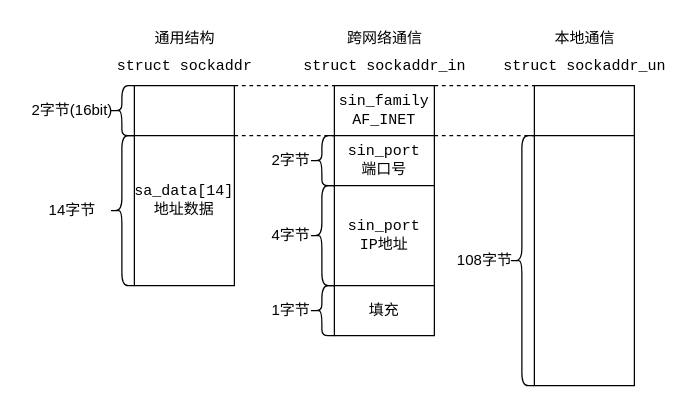
The diagram is 699 pixels wide and 408 high, and some of its shapes have lost their labels. Each missing label, with the centre of its shape:
"sa_family （地址族）" goes at point 183,110.
"sun_family AF_INET" goes at point 583,110.
"路径名" goes at point 583,260.
